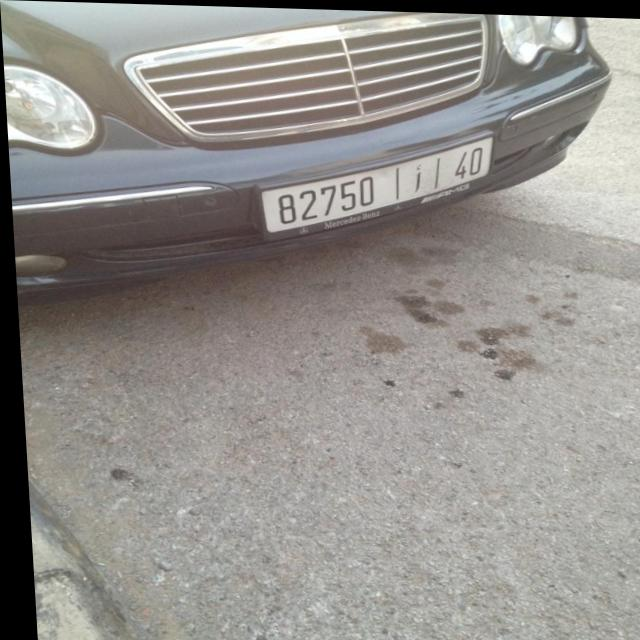License-Plate: (260, 135, 491, 231)
